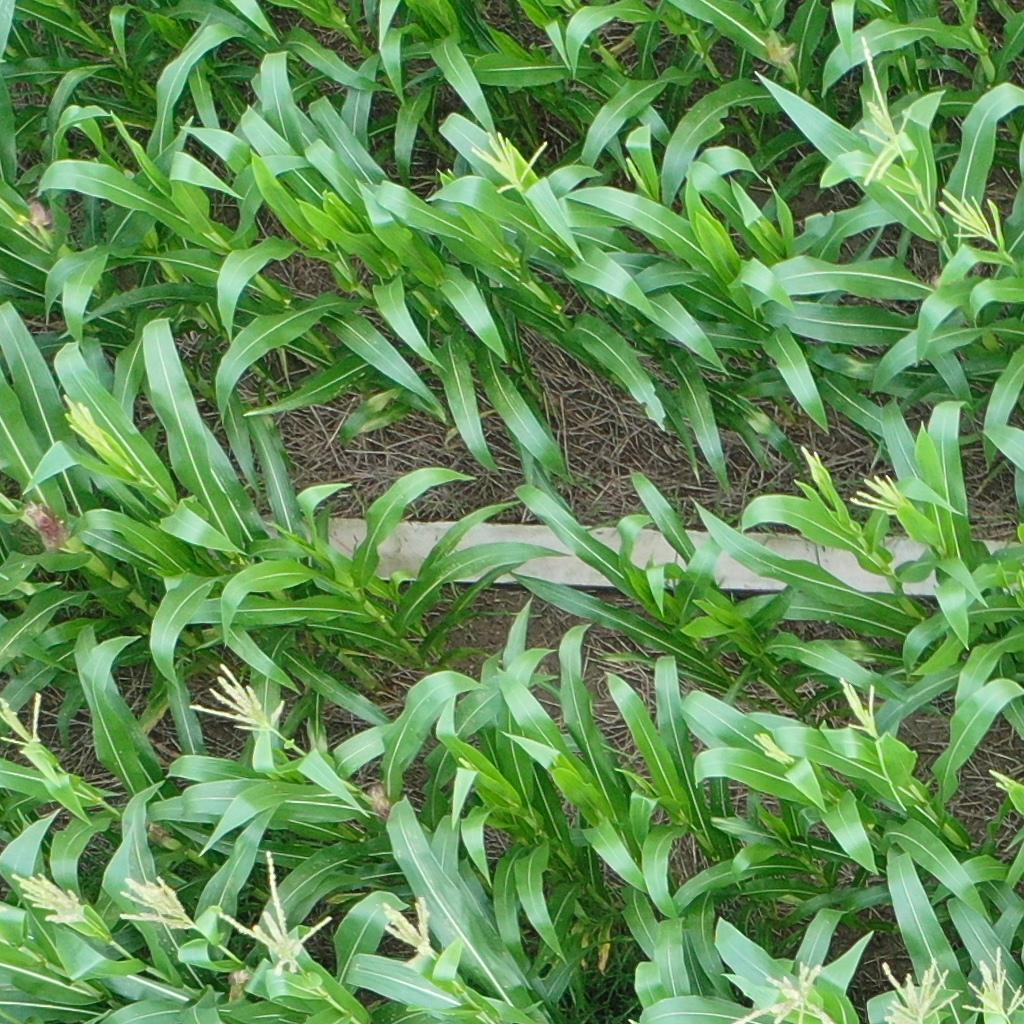Tassel: (210, 849, 331, 980), (846, 32, 924, 205), (185, 660, 288, 741), (866, 952, 959, 1024), (733, 959, 834, 1024), (459, 131, 552, 197), (114, 872, 193, 936), (57, 397, 127, 468), (938, 182, 1003, 255), (962, 944, 1024, 1020), (368, 890, 434, 957), (10, 870, 86, 925), (830, 677, 888, 741), (1, 687, 53, 756), (849, 459, 908, 517), (749, 726, 794, 765), (797, 445, 826, 483), (985, 766, 1018, 799)
